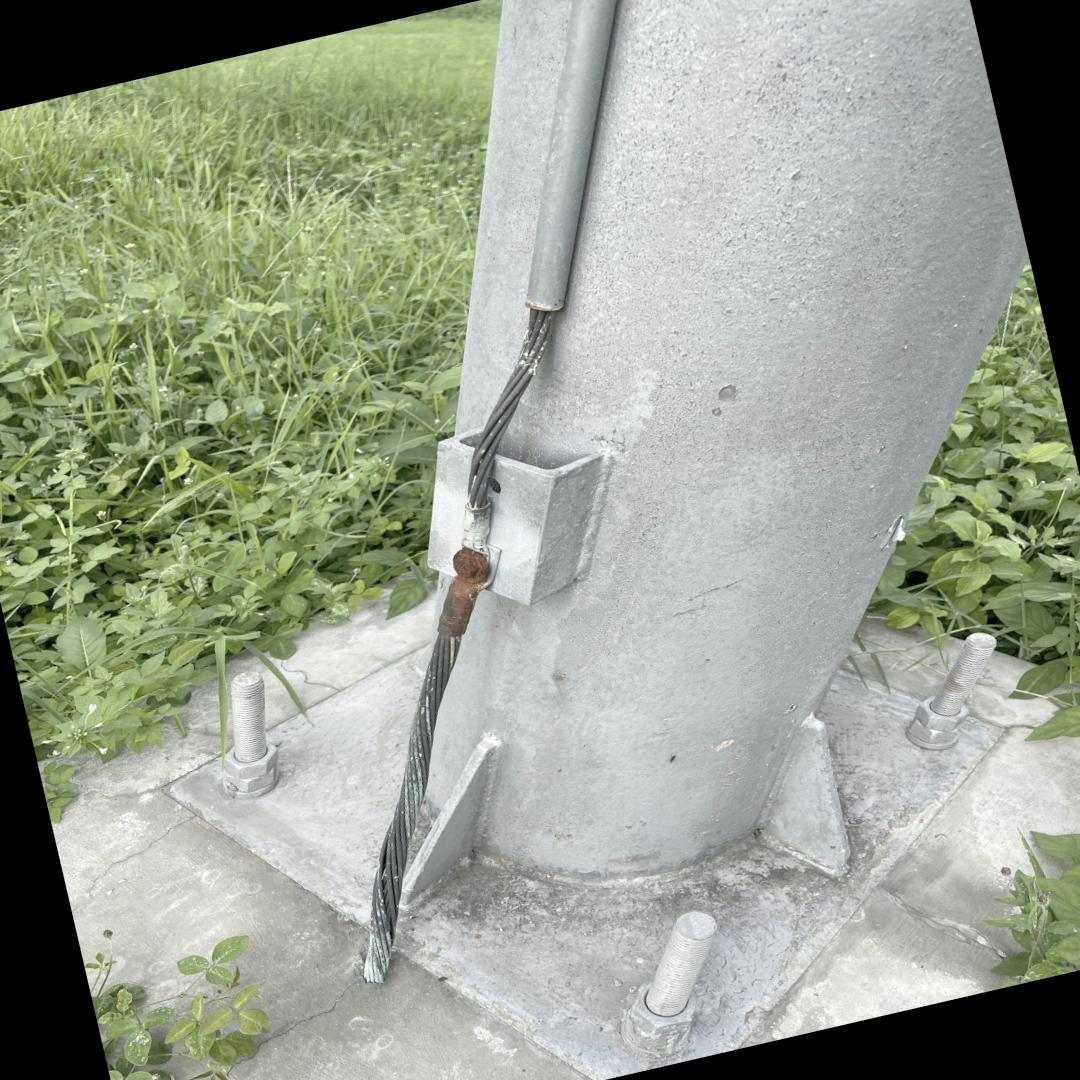Metal: (400, 0, 1029, 898)
Metal corroido: (437, 548, 490, 637)
